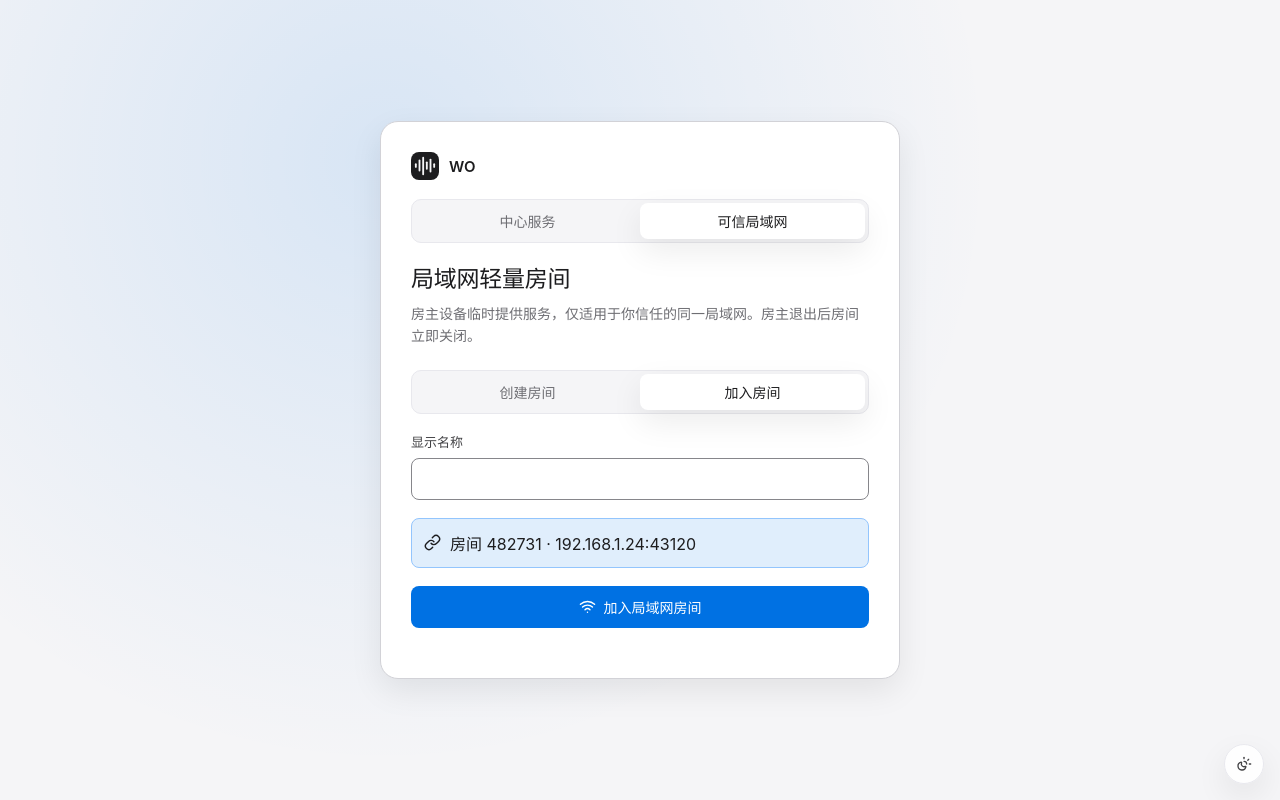
it: desktop account and room workflow › leaves LAN locally when the vanished host makes close fail
Type "访客" into the field named "显示名称".
click(640, 479); type("访客")  # box [411,458,869,500]
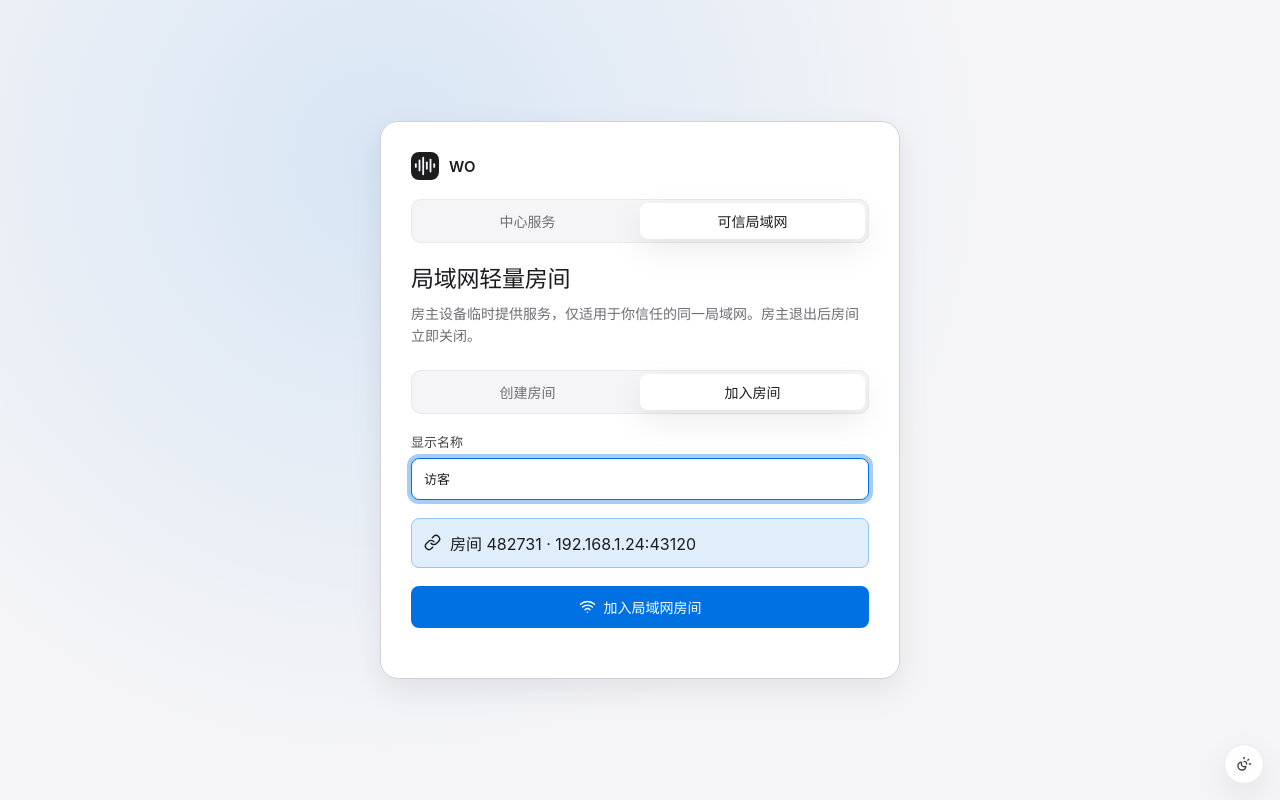
Click the button named "加入局域网房间".
click(640, 607)  # box [411,586,869,628]
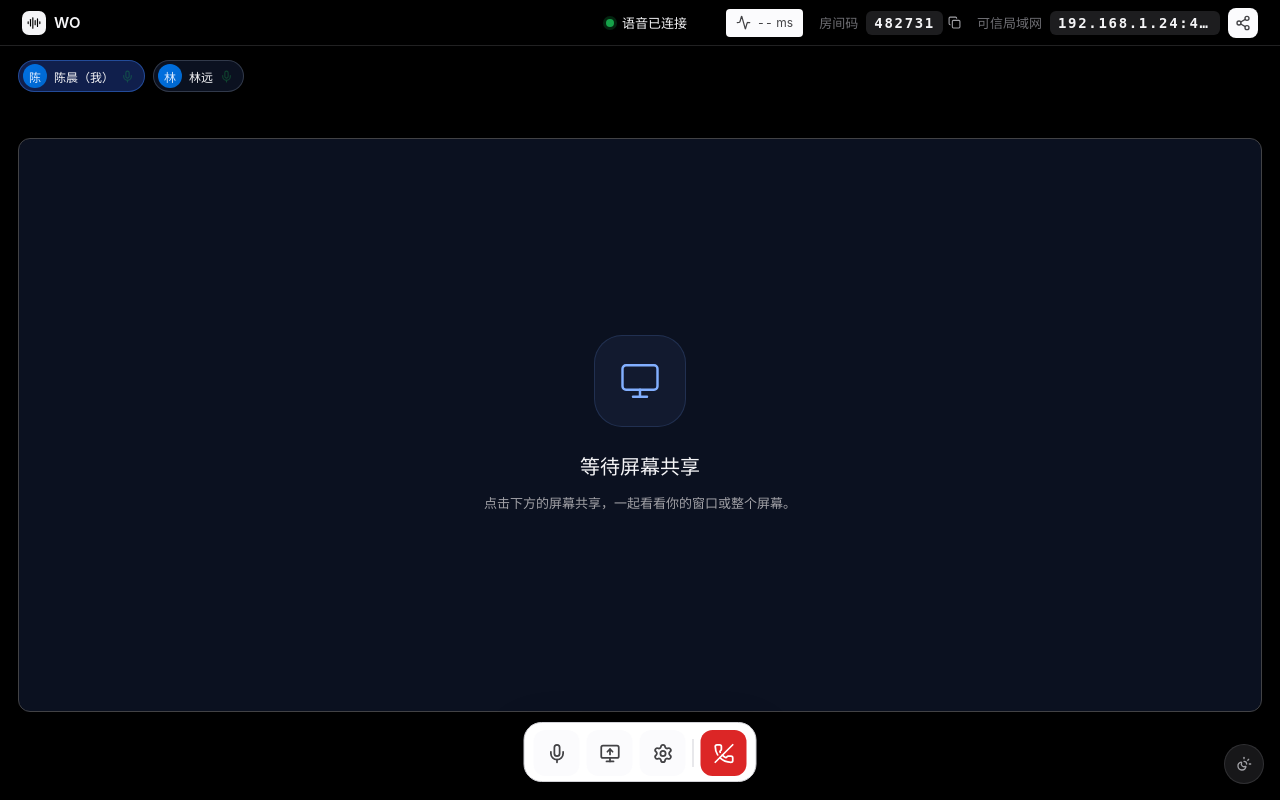
Now the 2nd text "语音已连接" is shown, box [622,15,687,31]
Click the button named "挂断".
click(724, 753)  # box [700,730,746,776]
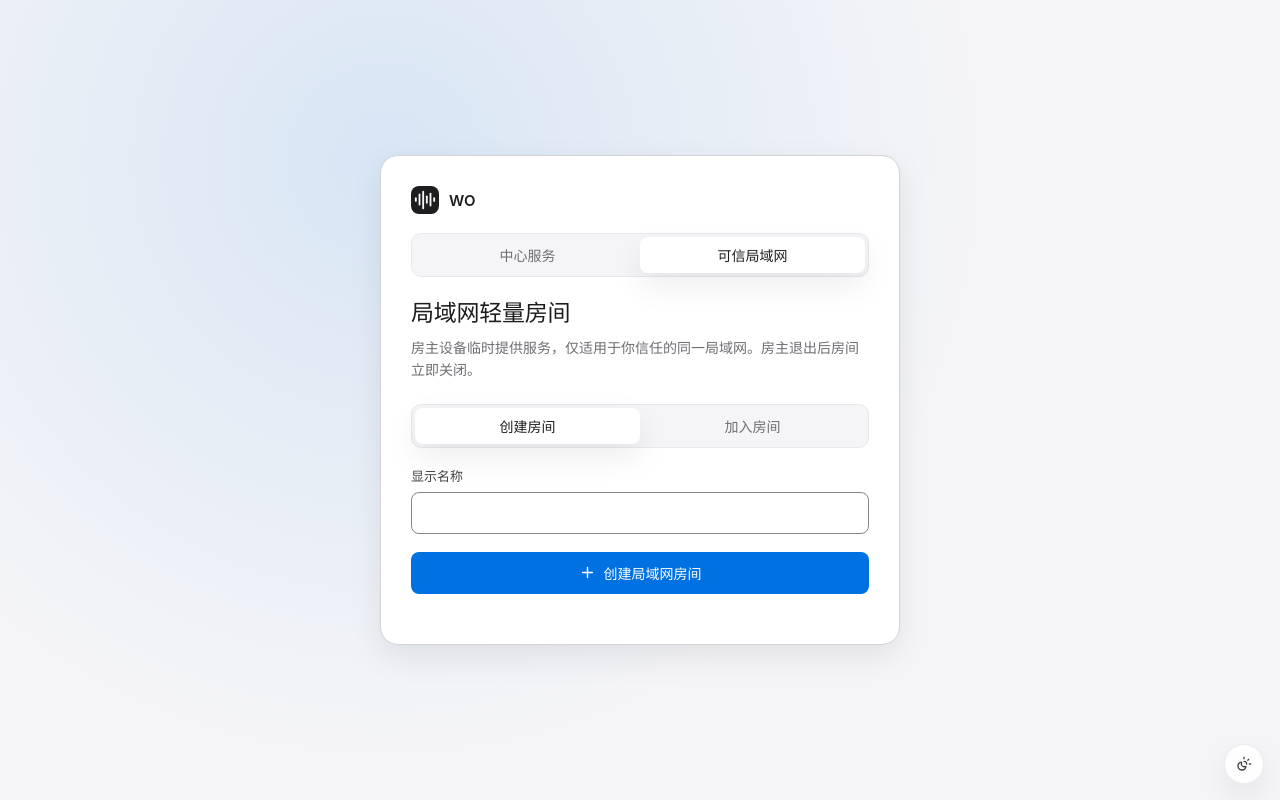
Now the heading named "局域网轻量房间" is shown, box [411,299,570,327]
